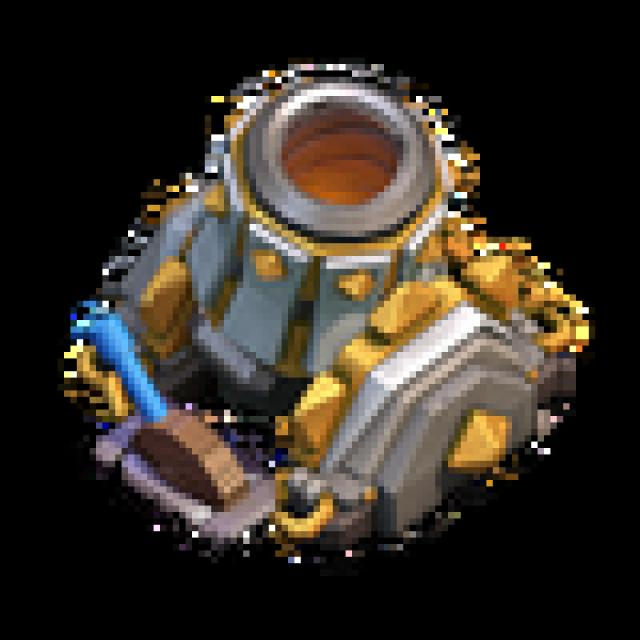mortar: (37, 41, 607, 582)
